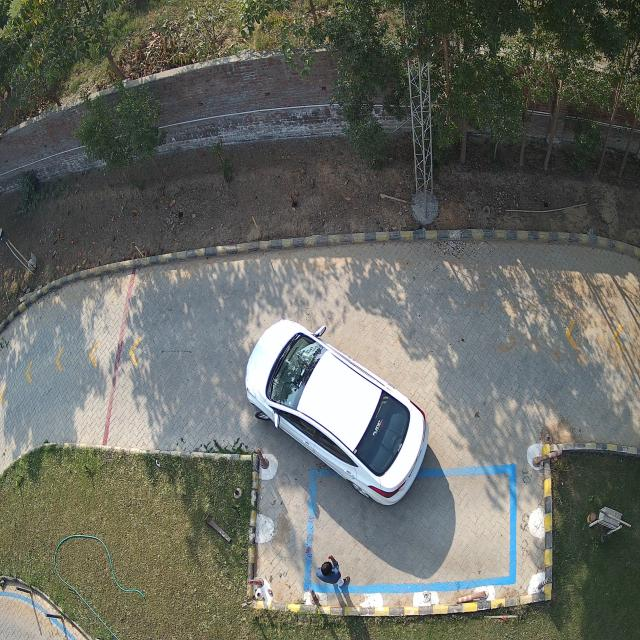car: (245, 320, 429, 505)
